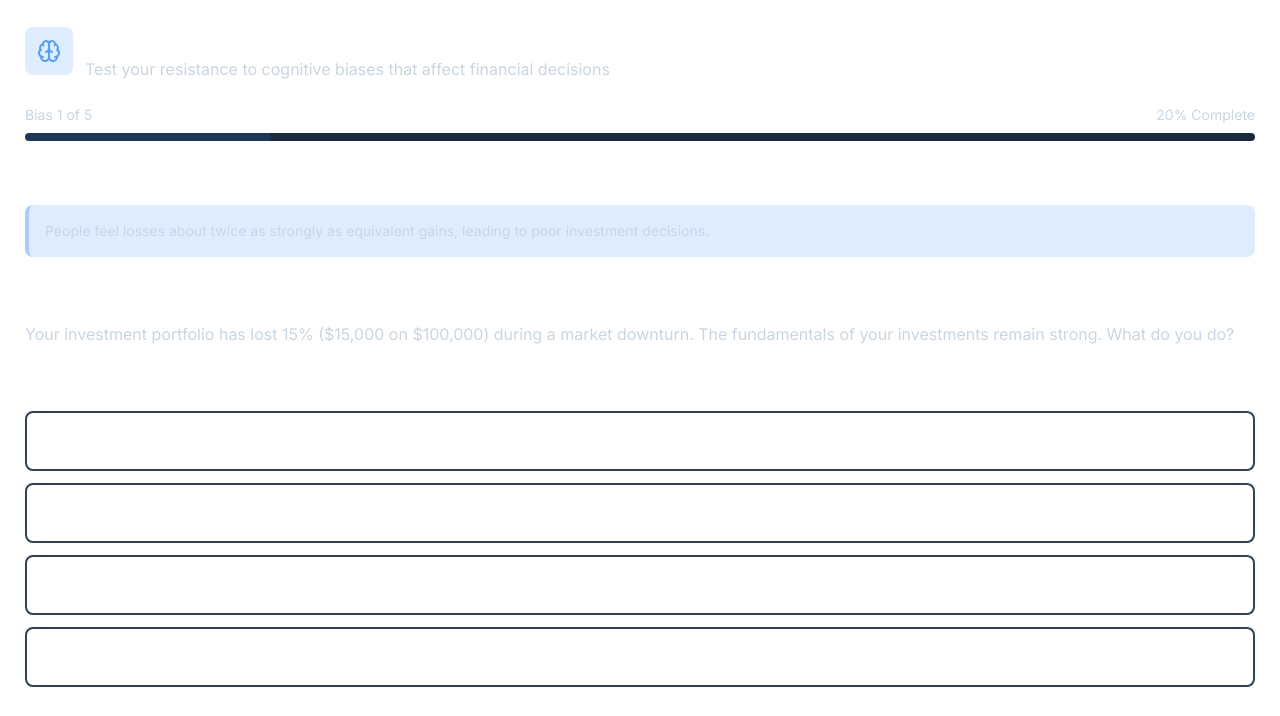
Test: BehavioralFinanceSimulator › handles option selection and shows results
Click the button "Hold steady and continue regular investing" at (207, 585), box [25, 555, 1255, 615]
(page scrolled)
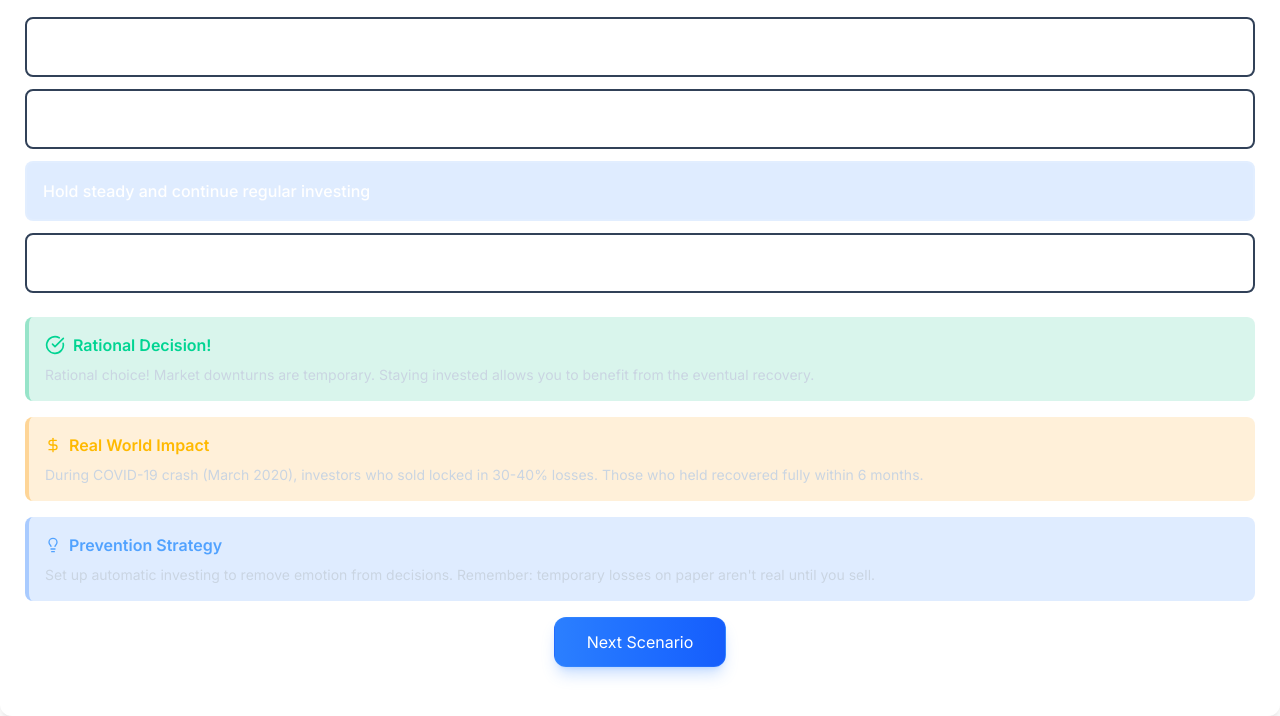
Check: the heading "Rational Decision!" is shown, box [73, 333, 212, 357]
Check: the text "Rational choice! Market downturns are temporary" is shown, box [45, 366, 814, 383]
Check: the heading "Real World Impact" is shown, box [45, 435, 210, 455]
